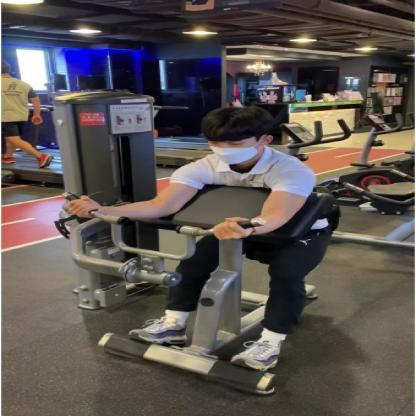arm curl machine: (58, 184, 343, 397)
